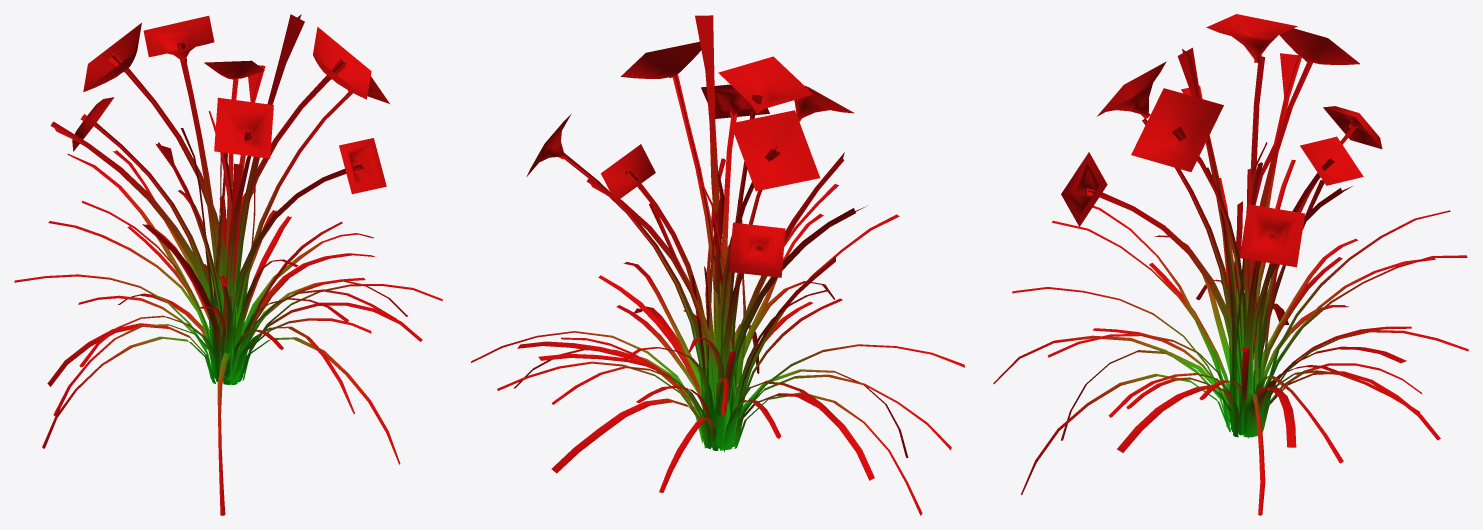
Rendered from White Windflower_LOD1_Var3_sktlN.fbx.
3 renders of one model, left to right at view 1: azimuth 30°, elevation 25°; view 2: azimuth 150°, elevation 25°; view 3: azimuth 270°, elevation 25°, orthographic. The views are drawn at different scales.
Visible parts, largest first — view 1: _7a64_Var3_LOD1; view 2: _7a64_Var3_LOD1; view 3: _7a64_Var3_LOD1.
Boxes of the visible parts, x1,y1,x2,y2 form: _7a64_Var3_LOD1: [14, 14, 442, 515]; _7a64_Var3_LOD1: [471, 15, 964, 515]; _7a64_Var3_LOD1: [993, 14, 1468, 515].
Bounding box in the file's own units: 81.02 × 85.71 × 80.18.
